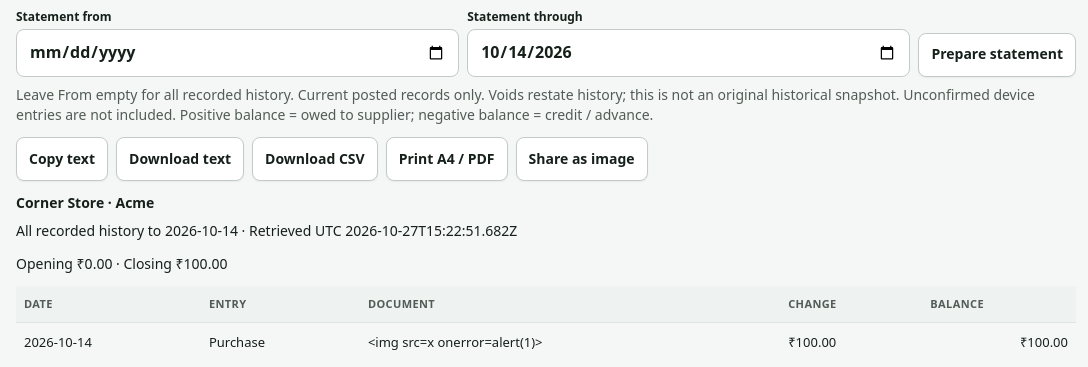
Test: a failed refresh or missing fresh shop profile cannot export an earlier statement
The width and height of the screenshot is (1088, 367).
Check: the button "Download CSV" is enabled, box [252, 137, 378, 181]
Step 1. Click the button "Prepare statement" → (997, 55), box [918, 33, 1076, 77]
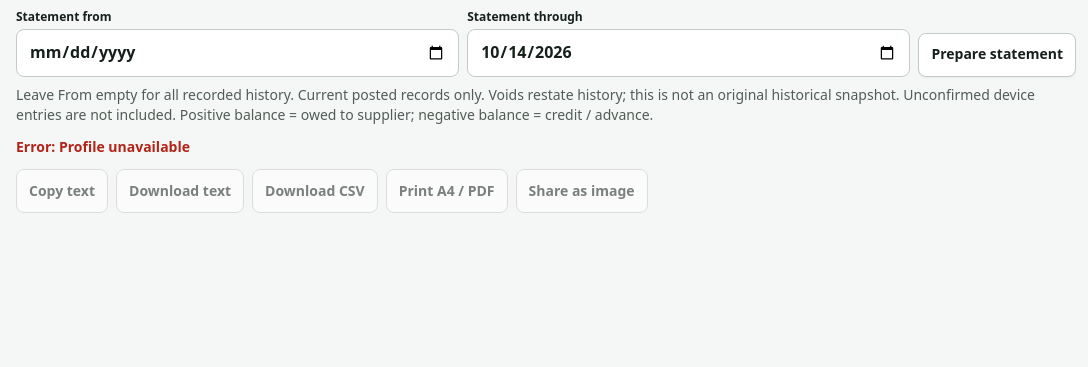
Check: the text "Profile unavailable" is shown, box [16, 137, 190, 156]
Check: the button "Download CSV" is disabled, box [252, 170, 378, 214]
